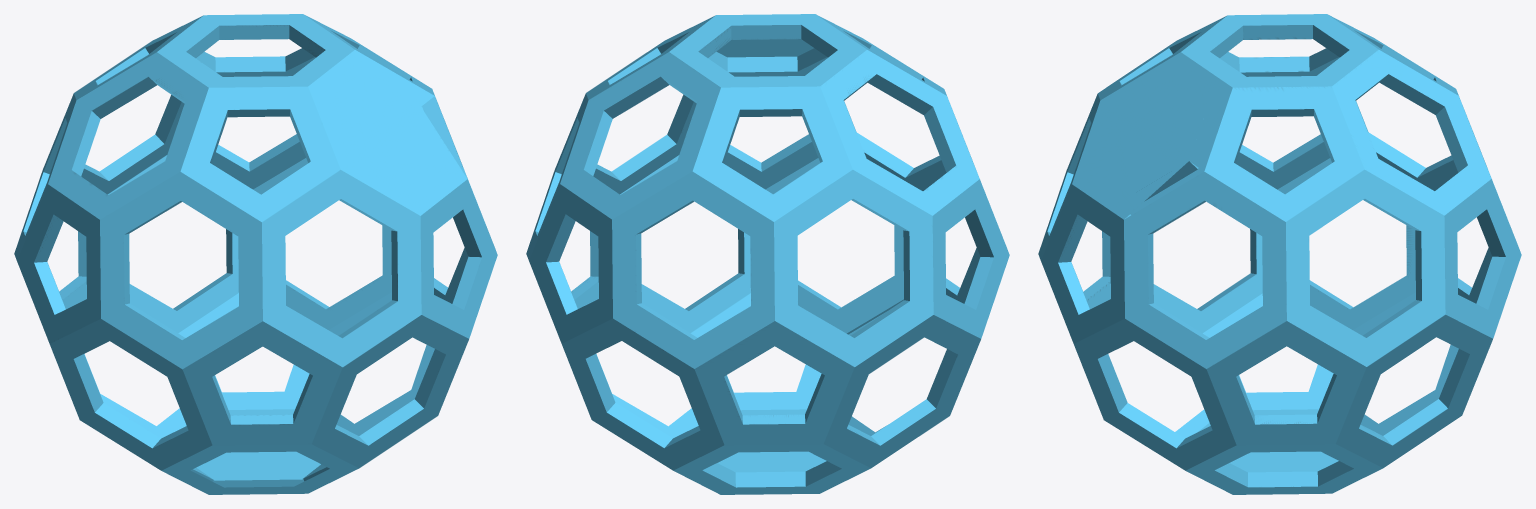
The model's file is cage à photon.fbx.
3 views of the same model, side by side, from view 1: azimuth 30°, elevation 25°; view 2: azimuth 150°, elevation 25°; view 3: azimuth 270°, elevation 25° (orthographic).
Visible parts, largest first — view 1: node_id18 (×9); view 2: node_id18 (×7); view 3: node_id18 (×6).
Part boxes in pixels (x1=…): node_id18 (×9): x1=14, y1=14, x2=497, y2=494; node_id18 (×7): x1=526, y1=14, x2=1009, y2=494; node_id18 (×6): x1=1038, y1=14, x2=1521, y2=494.
Size of the model in its own units: 0.512 by 0.475 by 0.5109.
Materials: 13 (13 with a texture image).
